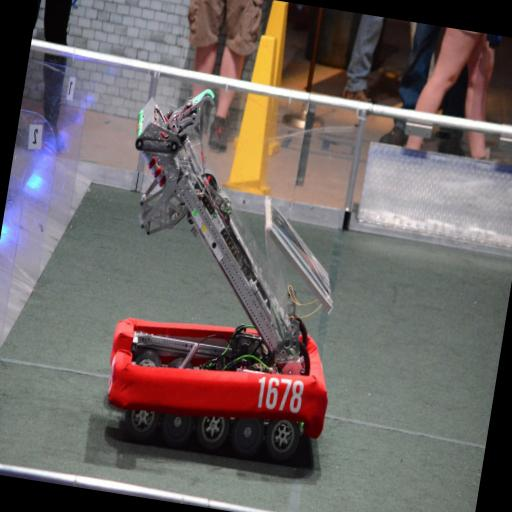robot: (73, 78, 373, 462)
